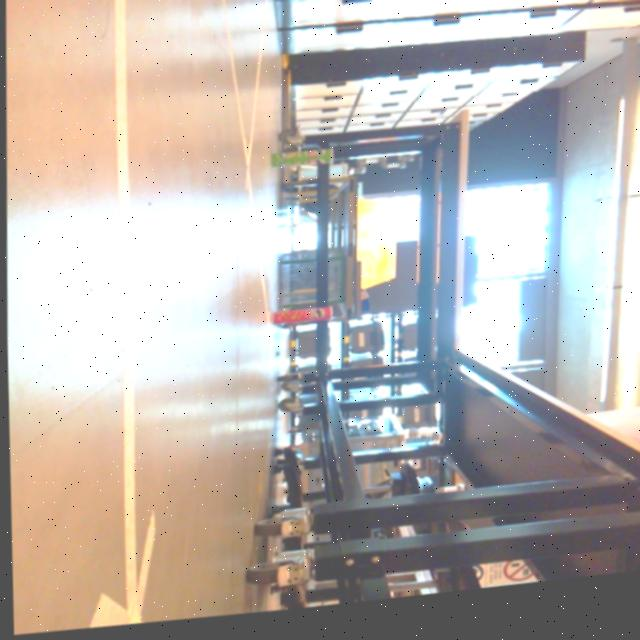greenpringles: (263, 146, 343, 188)
